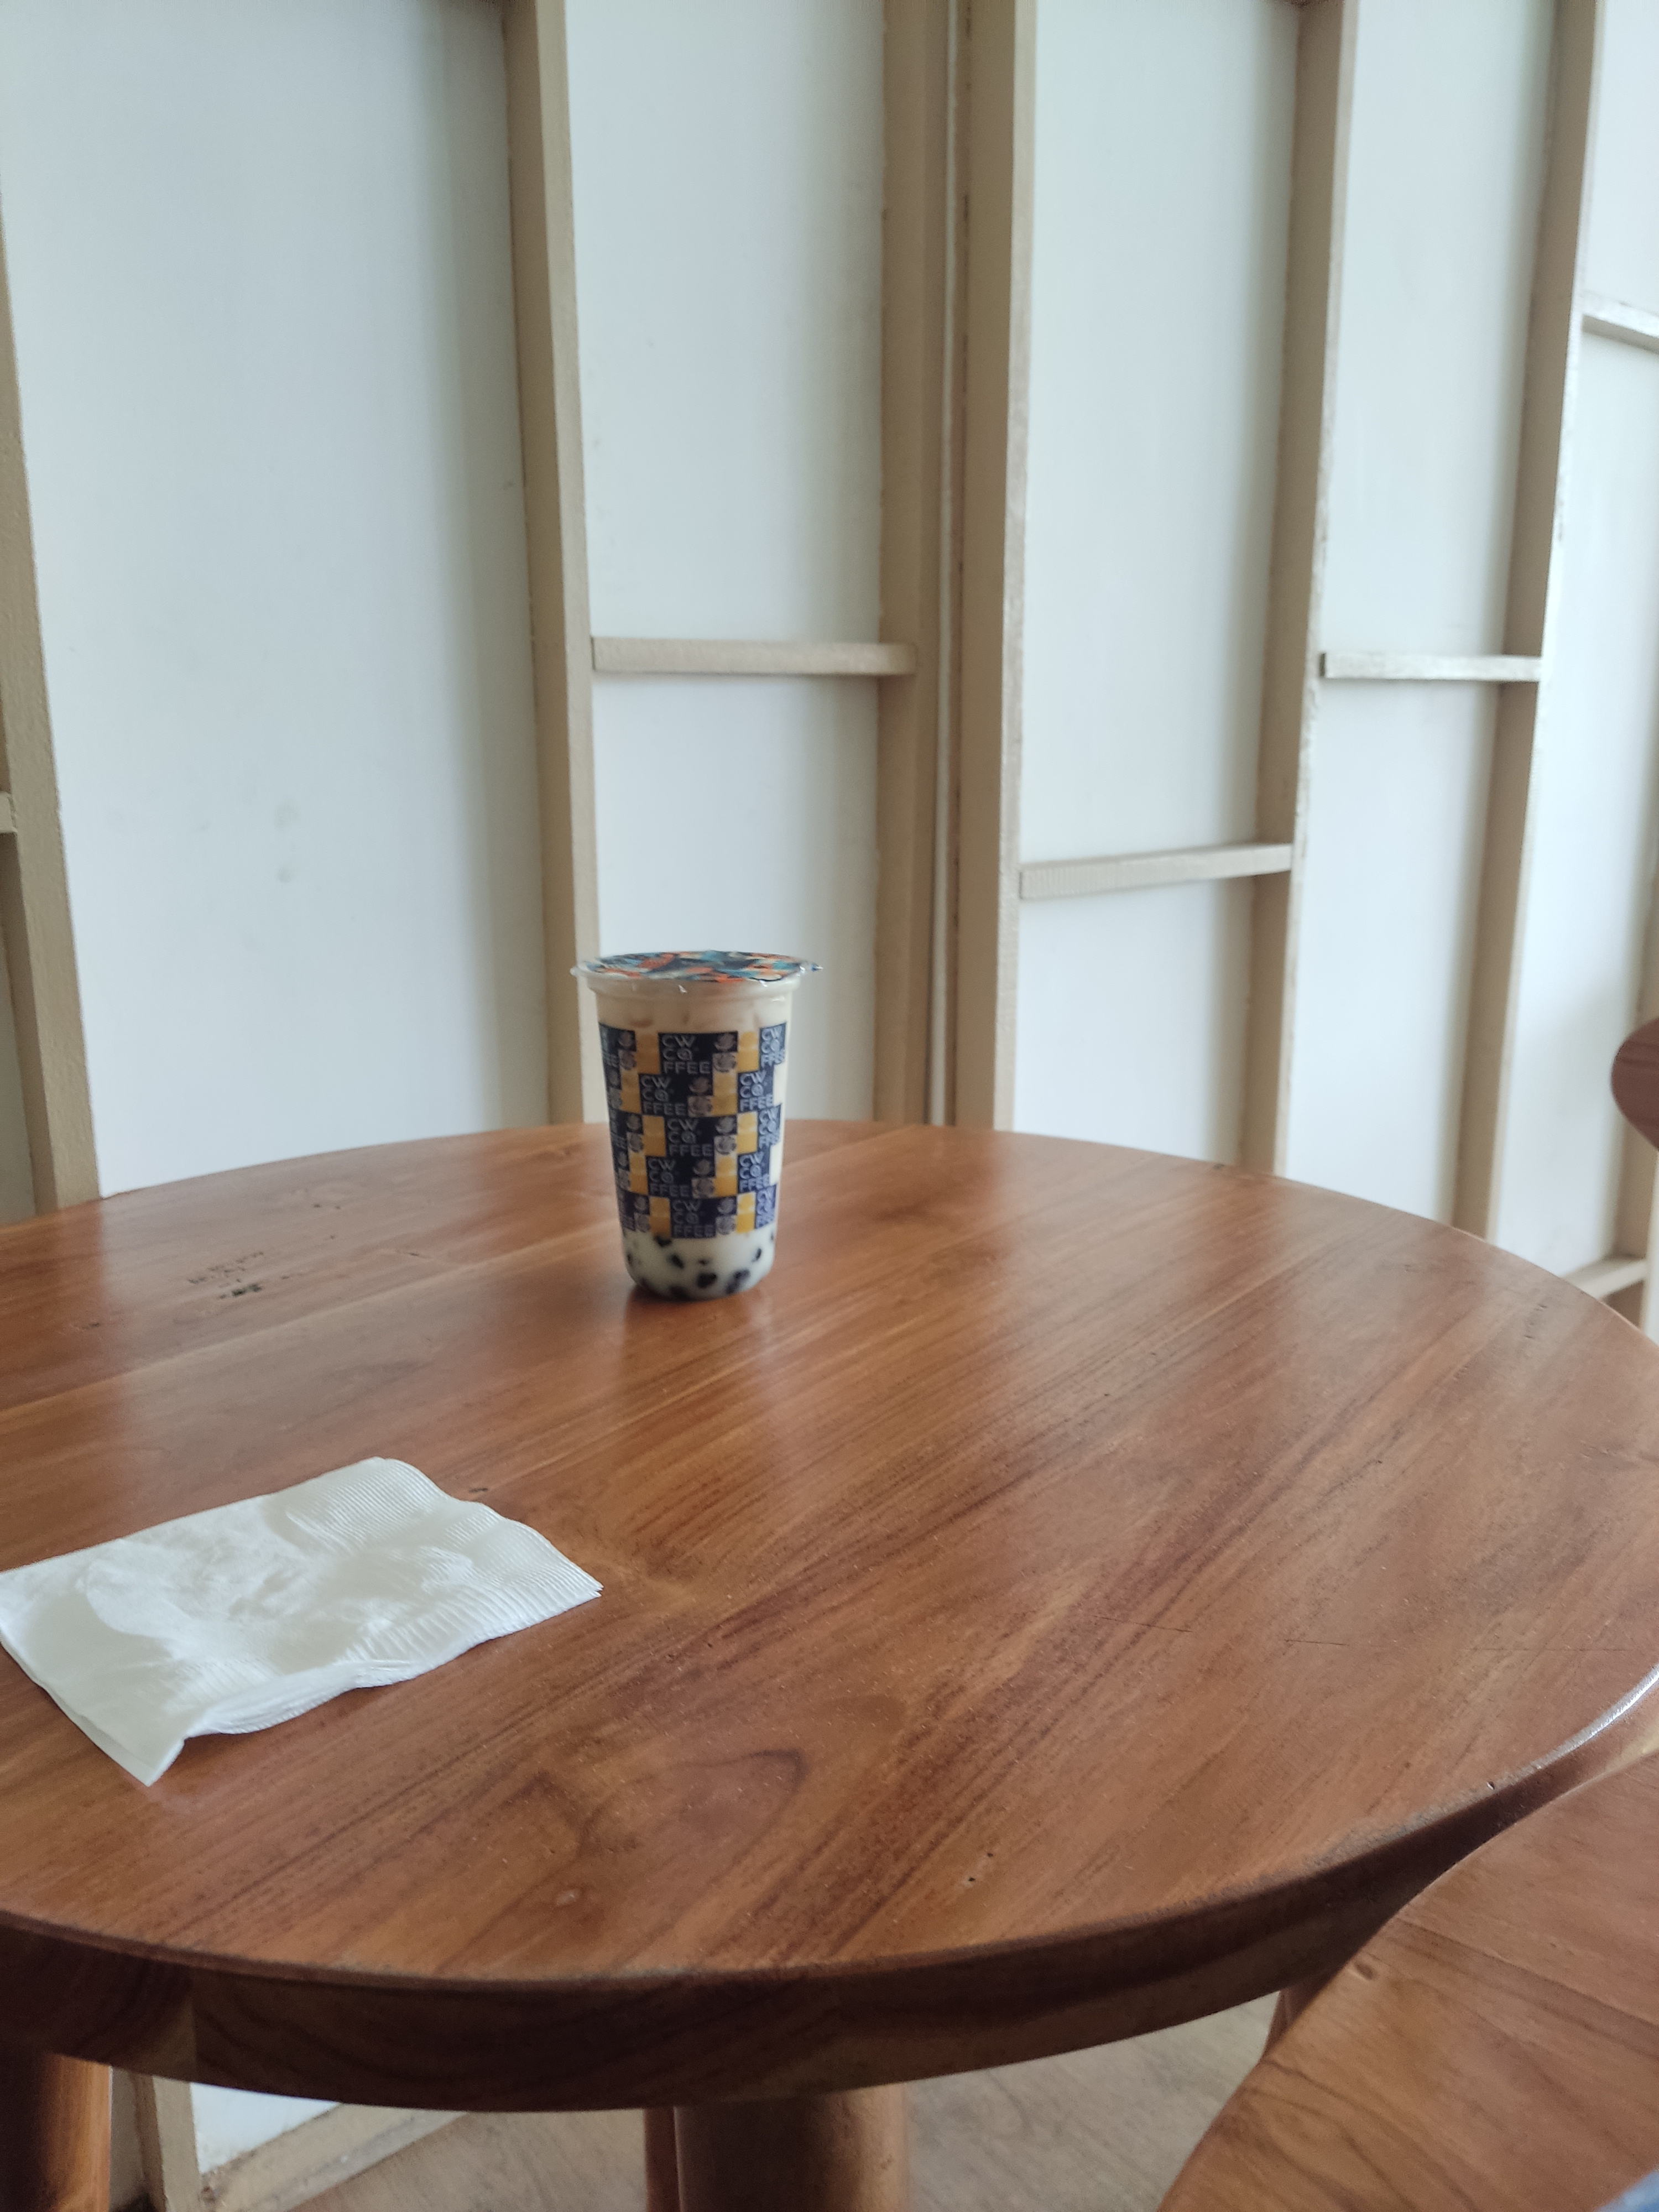Gelas CW: (570, 949, 823, 1289)
